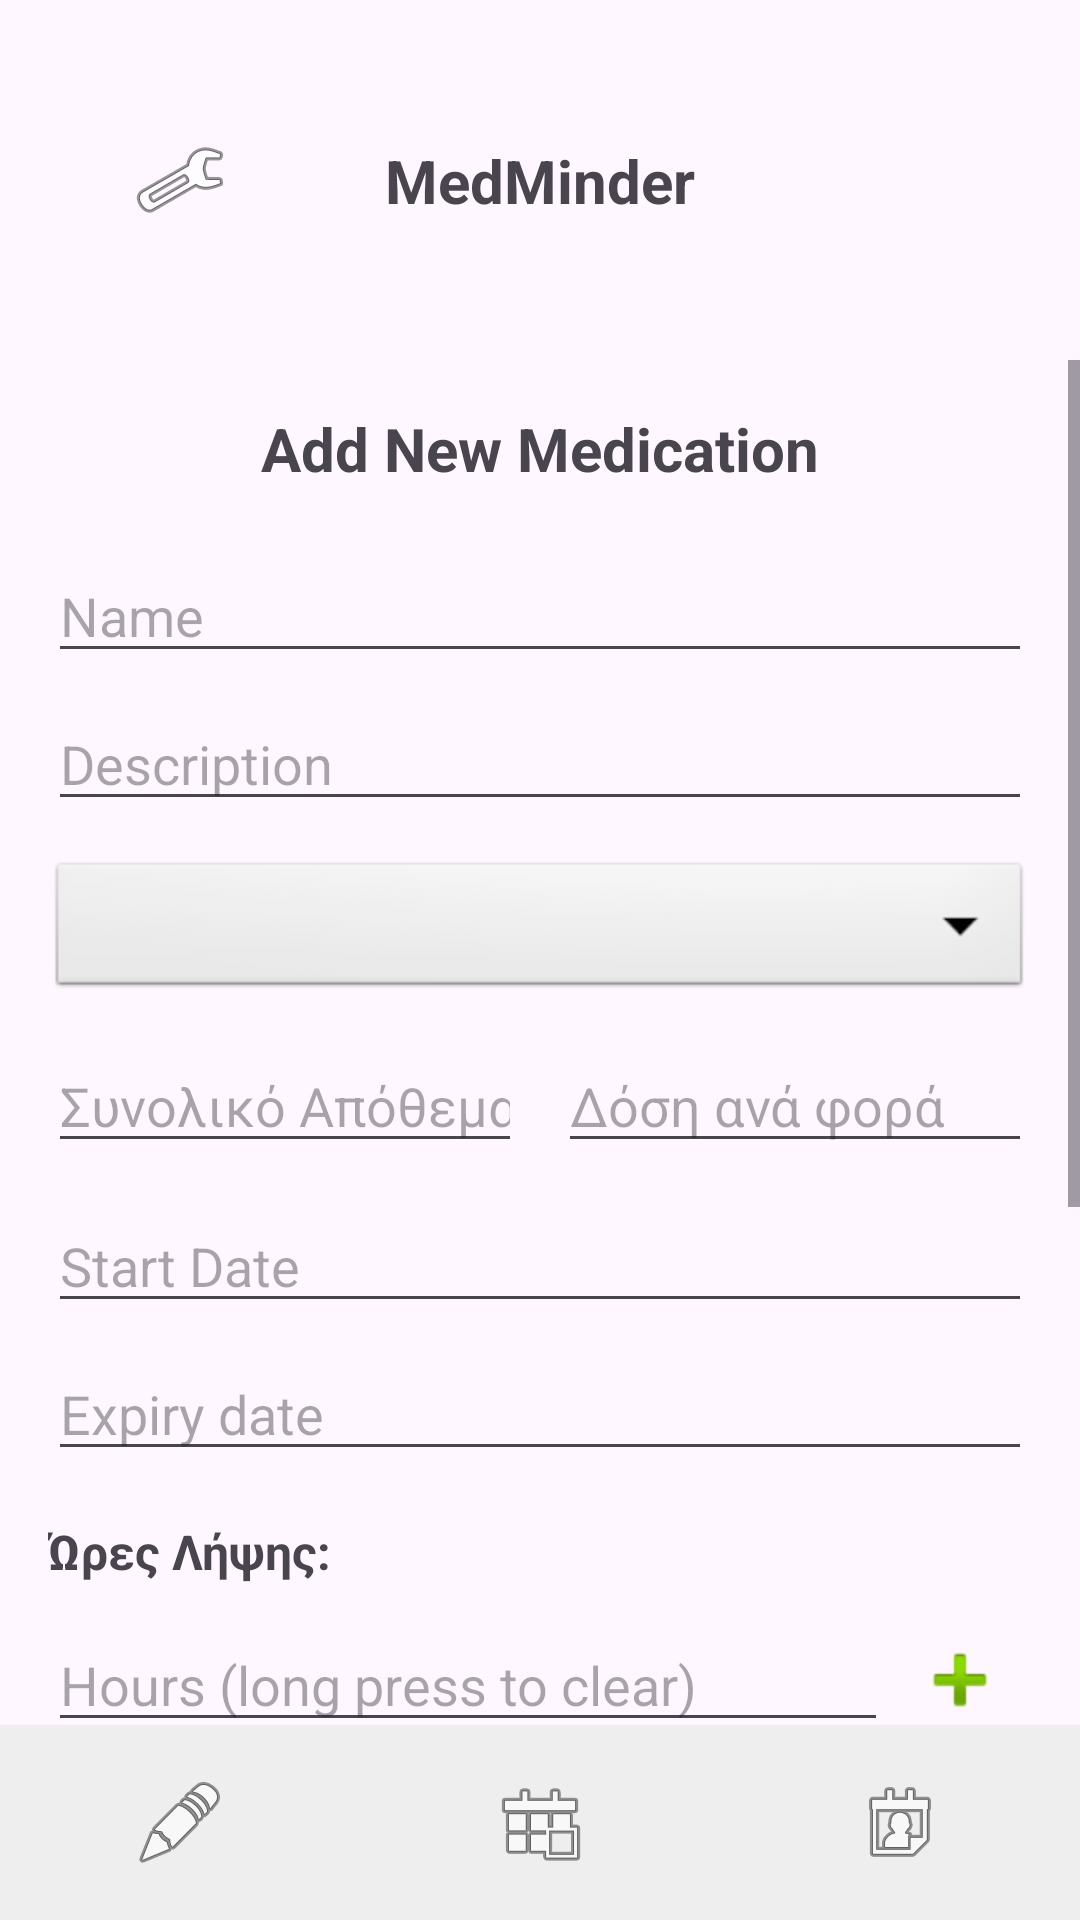

Icons on this 1080px×1920px Android screen, each with the point to tap as point (x, y):
edit: point (179, 1822)
preferences: point (180, 180)
